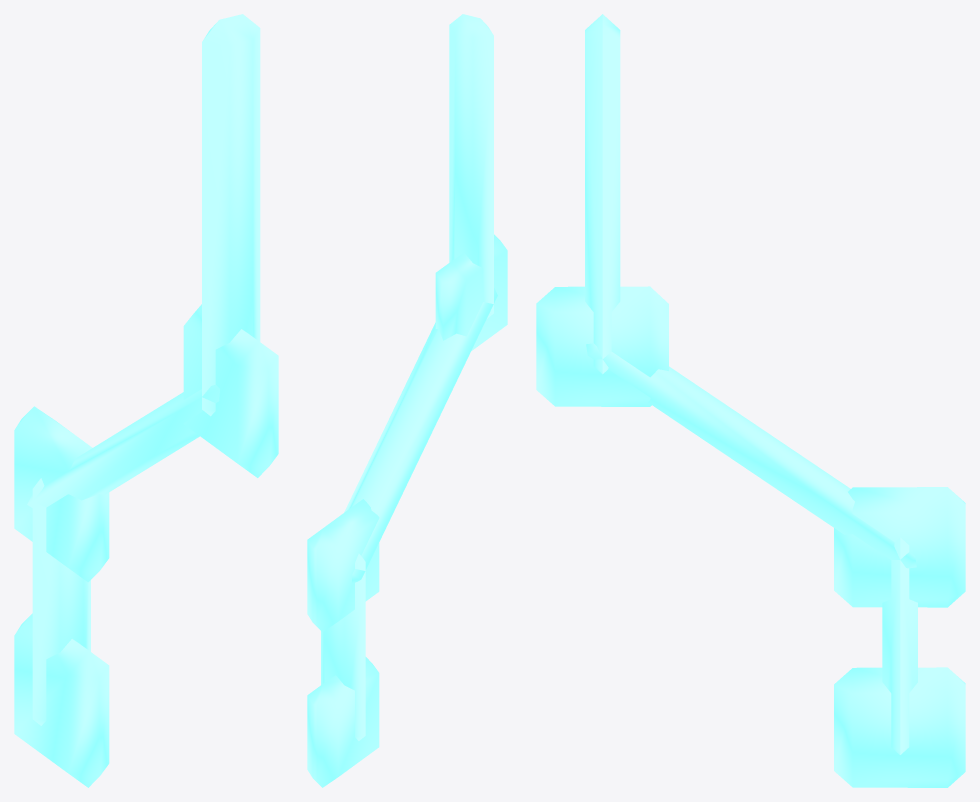
Rendered from Estela_BrazoIzq_Neon.fbx.
3 views of the same model, side by side, from view 1: azimuth 30°, elevation 25°; view 2: azimuth 150°, elevation 25°; view 3: azimuth 270°, elevation 25° (orthographic). The views are drawn at different scales.
Parts seen in each view (by area): view 1: Estela_BrazoIzq_Neon; view 2: Estela_BrazoIzq_Neon; view 3: Estela_BrazoIzq_Neon.
Part boxes in pixels (x1,y1,x2,y2): Estela_BrazoIzq_Neon: (14, 14, 278, 787); Estela_BrazoIzq_Neon: (307, 14, 507, 787); Estela_BrazoIzq_Neon: (536, 14, 965, 787).
Bounding box in the file's own units: 0.05 × 0.7139 × 0.3613.
